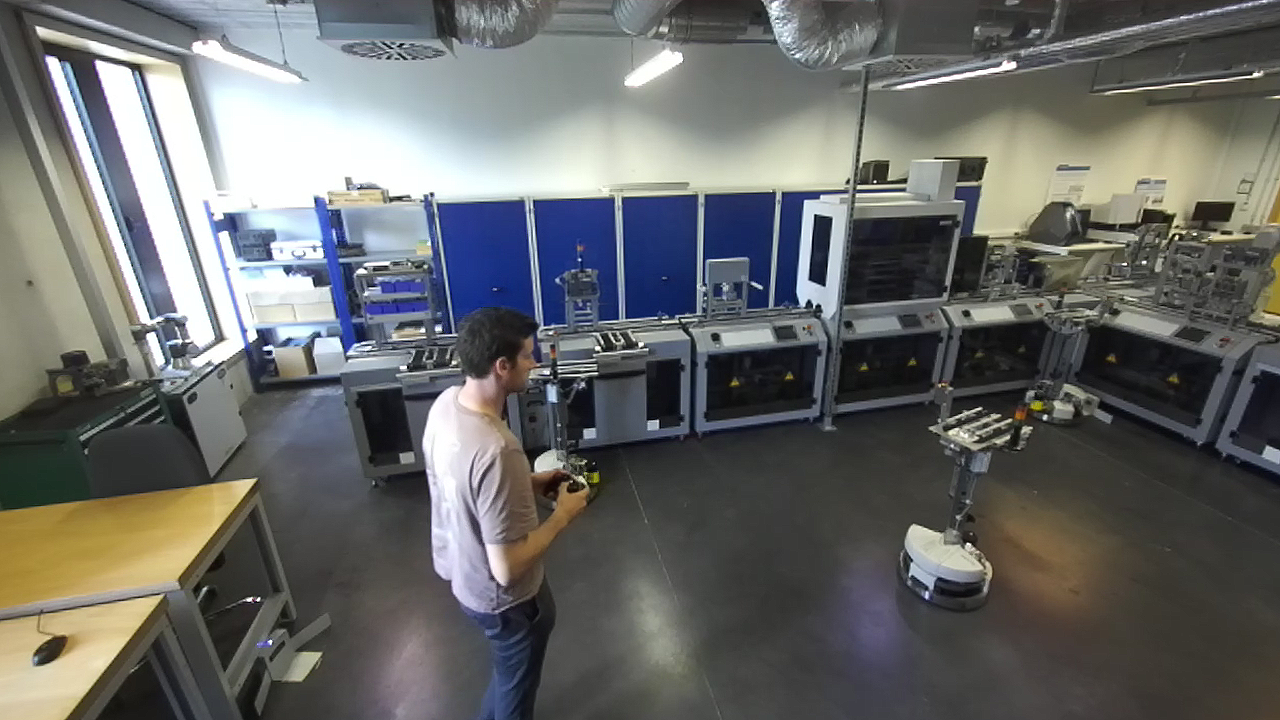AMR: (898, 376, 1034, 611), (1027, 279, 1100, 426)
Human: (413, 298, 602, 720)
